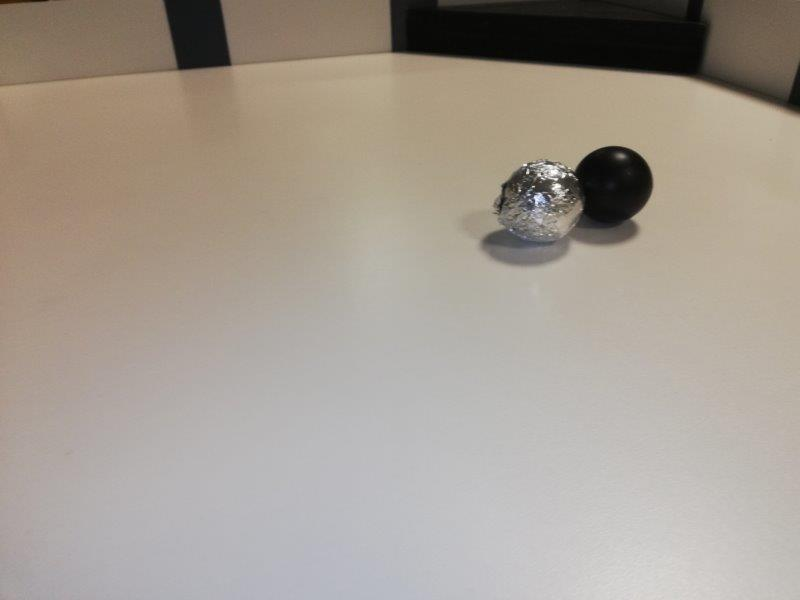bianca: (497, 157, 583, 240)
nera: (575, 142, 652, 226)
